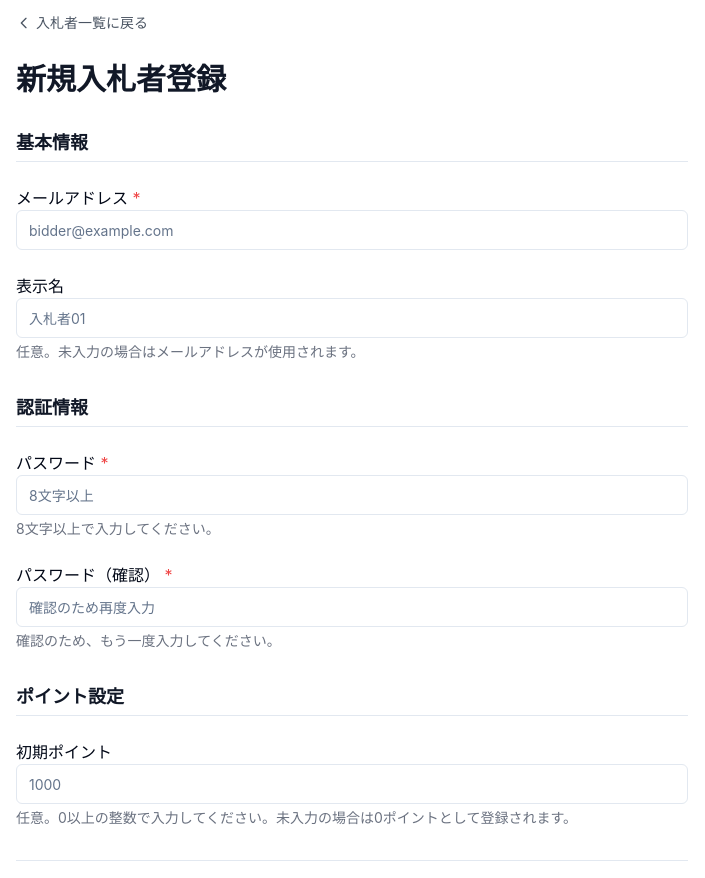
Test: BidderRegisterView › displays validation error when email format is invalid
The width and height of the screenshot is (705, 878).
Type "invalid-email" into the field with id "email". click: (352, 230)
box: [16,210,688,250]
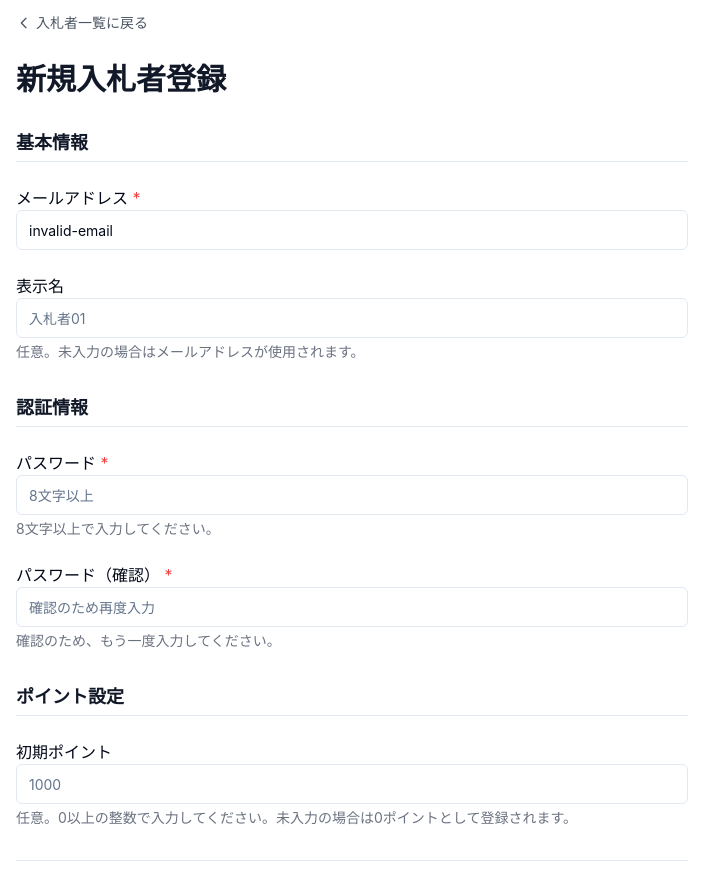
Leave the field with id "email", box [16,210,688,250]
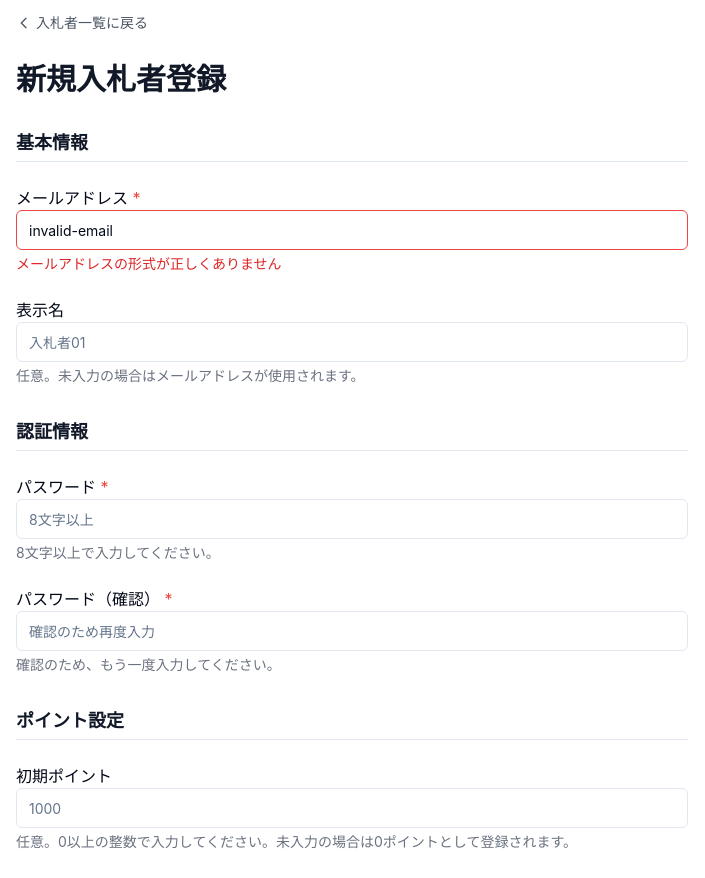
Expected: the text "メールアドレスの形式が正しくありません" is shown, [16,255,282,272]
